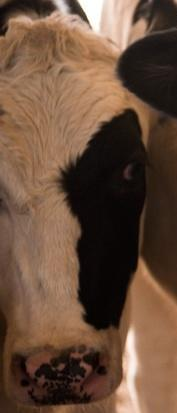muzzles: (3, 343, 128, 412)
